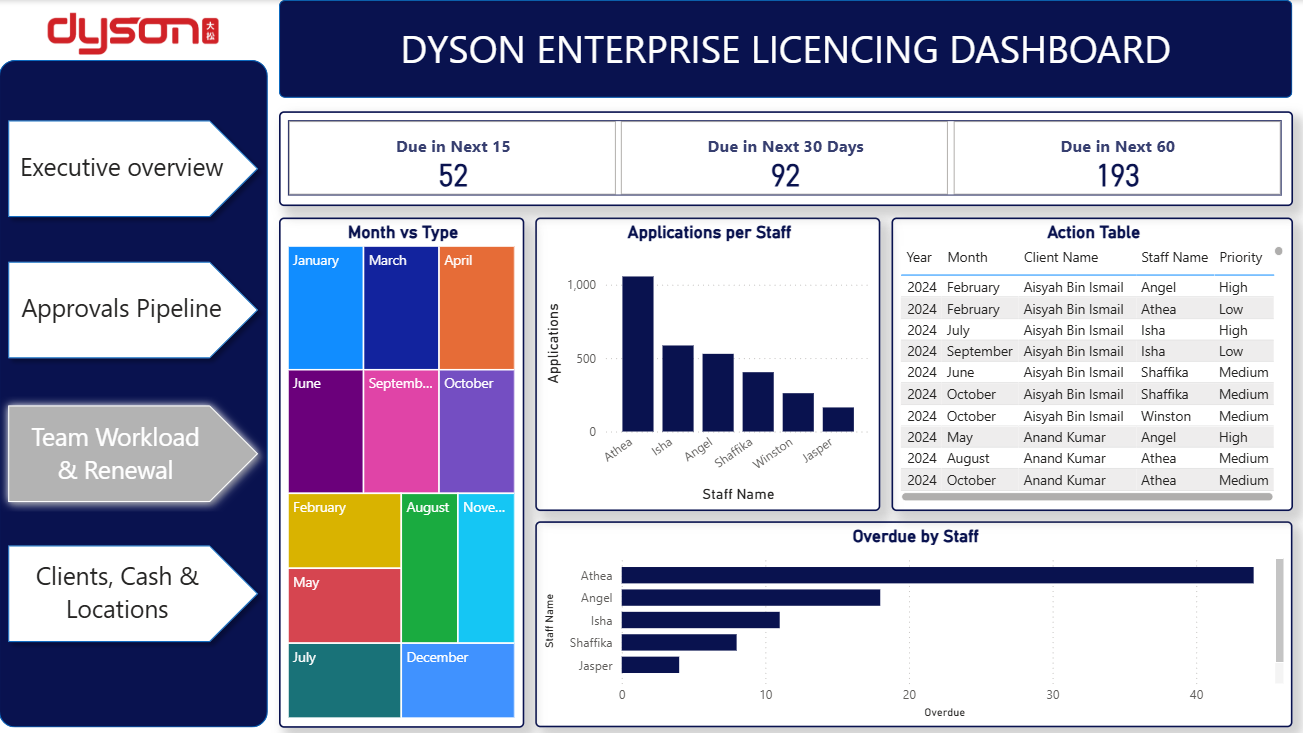

This screenshot's page, from the dashboard's own definition file:
{"tool":"powerbi","page":{"name":"Page 3","canvas":[1280,720],"ordinal":2},"visuals":[{"type":"clusteredColumnChart","title":"Applications per Staff","fields":{"Category":["Main.Staff Name"],"Y":["CountNonNull(Main.Deadline)"]},"box":[524.6,212.8,337.5,287.4],"z":0},{"type":"shape","box":[274.3,0,991.4,95.7],"z":1000},{"type":"textbox","box":[353.8,17.5,832.5,60],"z":2000},{"type":"shape","box":[0,58.7,262.9,653],"z":3000},{"type":"shape","box":[0,108.8,262.5,112.5],"z":4000},{"type":"shape","box":[0,247.5,262.5,112.5],"z":5000},{"type":"shape","box":[0,387.5,262.5,112.5],"z":6000},{"type":"shape","box":[0,525,262.5,112.5],"z":7000},{"type":"textbox","box":[18.8,406.2,191.2,75],"z":8000},{"type":"textbox","box":[10,141.2,220,46.2],"z":9000},{"type":"textbox","box":[28.8,541.2,172.5,78.8],"z":10000},{"type":"textbox","box":[12.5,280,215,47.5],"z":11000},{"type":"actionButton","box":[10,255,217.5,95],"z":12000},{"type":"actionButton","box":[10,535,217.5,95],"z":13000},{"type":"actionButton","box":[10,117.5,217.5,95],"z":14000},{"type":"cardVisual","fields":{"Data":["Main.Due Next 15","Main.Due Next 30","Main.Due Next 60"]},"box":[273.9,108.8,991.7,92.9],"z":15000},{"type":"clusteredBarChart","title":"Overdue by Staff","fields":{"Category":["Main.Staff Name"],"Y":["Main.Overdue Deadlines"]},"box":[524.6,509.9,741,201.8],"z":16000},{"type":"tableEx","title":"Action Table","fields":{"Values":["Main.Deadline.Variation.Date Hierarchy.Year","Main.Deadline.Variation.Date Hierarchy.Month","Main.Client Name","Main.Staff Name","Main.Priority"]},"box":[873.1,212.8,392.5,287.4],"z":17000},{"type":"treemap","title":"Month vs Type","fields":{"Group":["Main.Deadline.Variation.Date Hierarchy.Month"],"Values":["Count(Main.Type)"]},"box":[273.9,212.8,239.7,498.9],"z":18000},{"type":"image","box":[40,0,181.2,58.8],"z":19000}]}

Visuals, with their boxes in screenshot pixels (x1, y1, x2, y2), scaled from the page's 1280x720 canvas onto the 1303x733 screenshot:
"Applications per Staff" clusteredColumnChart: [left=534, top=217, right=878, bottom=509]
shape: [left=279, top=0, right=1288, bottom=97]
textbox: [left=360, top=18, right=1208, bottom=79]
shape: [left=0, top=60, right=268, bottom=725]
shape: [left=0, top=111, right=267, bottom=225]
shape: [left=0, top=252, right=267, bottom=366]
shape: [left=0, top=394, right=267, bottom=509]
shape: [left=0, top=534, right=267, bottom=649]
textbox: [left=19, top=414, right=214, bottom=490]
textbox: [left=10, top=144, right=234, bottom=191]
textbox: [left=29, top=551, right=205, bottom=631]
textbox: [left=13, top=285, right=232, bottom=333]
actionButton: [left=10, top=260, right=232, bottom=356]
actionButton: [left=10, top=545, right=232, bottom=641]
actionButton: [left=10, top=120, right=232, bottom=216]
cardVisual - Main.Due Next 15 x Main.Due Next 30: [left=279, top=111, right=1288, bottom=205]
"Overdue by Staff" clusteredBarChart: [left=534, top=519, right=1288, bottom=725]
"Action Table" tableEx: [left=889, top=217, right=1288, bottom=509]
"Month vs Type" treemap: [left=279, top=217, right=523, bottom=725]
image: [left=41, top=0, right=225, bottom=60]
